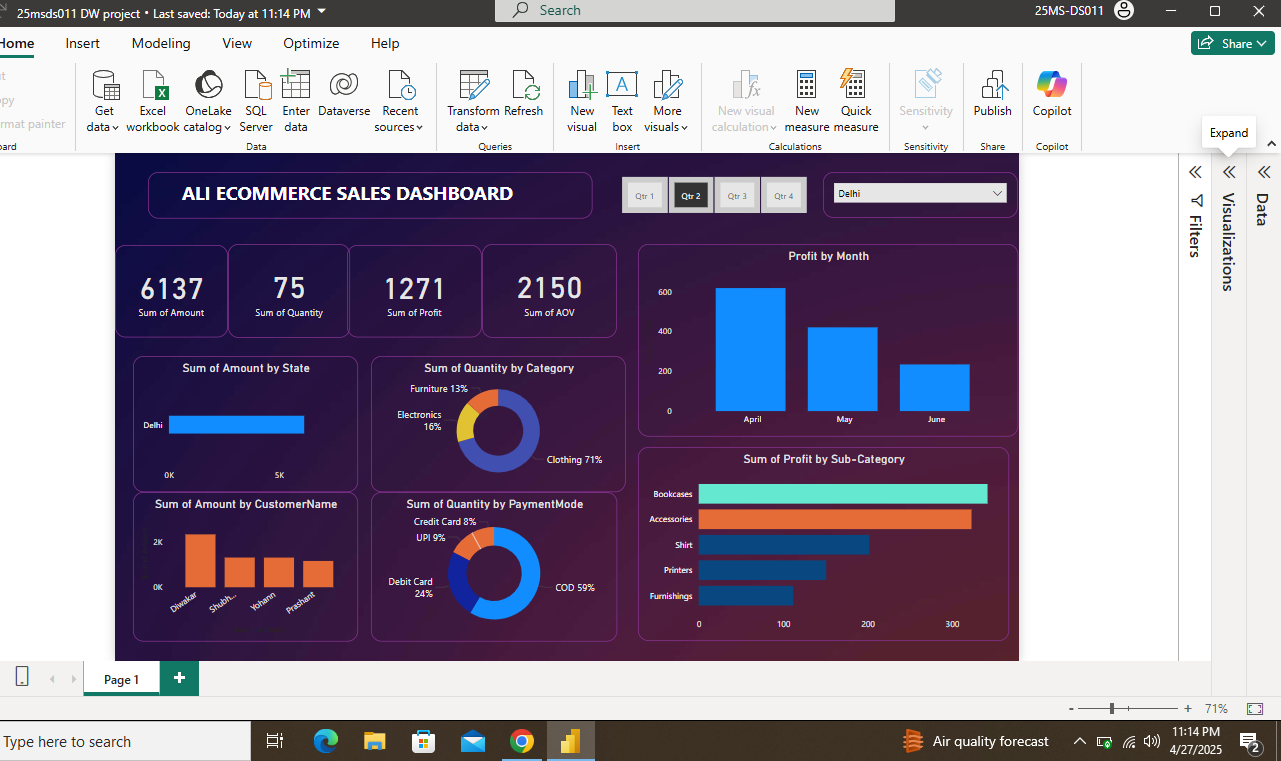

The dashboard page shown, as its layout file describes it:
{"tool":"powerbi","page":{"name":"Page 1","canvas":[1280,720],"ordinal":0},"visuals":[{"type":"textbox","box":[47,26.9,629.9,65.5],"z":0},{"type":"columnChart","title":"Profit by Month","fields":{"Y":["Sum(Details.Profit)"],"Category":["Order ID.Order Date.Variation.Date Hierarchy.Month"]},"box":[741.2,128.7,538.8,272.8],"z":1000},{"type":"barChart","fields":{"Category":["Details.Sub-Category"],"Y":["Sum(Details.Profit)"]},"box":[740.8,416.6,525.8,275.5],"z":2000},{"type":"donutChart","fields":{"Y":["Sum(Details.Quantity)"],"Category":["Details.Category"]},"box":[362.8,287.2,361.2,193.2],"z":3000},{"type":"donutChart","fields":{"Y":["Sum(Details.Quantity)"],"Category":["Details.PaymentMode"]},"box":[362.8,480.4,349.4,211.7],"z":4000},{"type":"card","fields":{"Values":["Sum(Details.Amount)"]},"box":[0,131,159.6,131],"z":5000},{"type":"card","fields":{"Values":["Sum(Details.Quantity)"]},"box":[159.6,129.3,173,132.7],"z":6000},{"type":"card","fields":{"Values":["Sum(Details.Profit)"]},"box":[329.2,131,191.5,131],"z":7000},{"type":"card","fields":{"Values":["Sum(Details.AOV)"]},"box":[520.7,129.3,191.5,132.7],"z":8000},{"type":"barChart","fields":{"Y":["Sum(Details.Amount)"],"Category":["Order ID.State"]},"box":[25.2,287.2,319.2,193.2],"z":9000},{"type":"columnChart","fields":{"Category":["Order ID.CustomerName"],"Y":["Sum(Details.Amount)"]},"box":[25,480,319,212],"z":10000},{"type":"slicer","fields":{"Values":["Order ID.Order Date.Variation.Date Hierarchy.Quarter"]},"box":[693.2,27.5,310.6,65.2],"z":11000},{"type":"slicer","fields":{"Values":["Order ID.State"]},"box":[1003.8,27.5,276.2,65.2],"z":12000}]}

Visuals, with their boxes on the page's 1280x720 design canvas (x1, y1, x2, y2). These are canvas units, not pixel positions in the 1281x761 screenshot, which may show the page scaled, cropped or inside an application window:
textbox: detection(47, 27, 677, 92)
"Profit by Month" columnChart: detection(741, 129, 1280, 402)
barChart - Details.Sub-Category x Sum(Details.Profit): detection(741, 417, 1267, 692)
donutChart - Sum(Details.Quantity) x Details.Category: detection(363, 287, 724, 480)
donutChart - Sum(Details.Quantity) x Details.PaymentMode: detection(363, 480, 712, 692)
card - Sum(Details.Amount): detection(0, 131, 160, 262)
card - Sum(Details.Quantity): detection(160, 129, 333, 262)
card - Sum(Details.Profit): detection(329, 131, 521, 262)
card - Sum(Details.AOV): detection(521, 129, 712, 262)
barChart - Sum(Details.Amount) x Order ID.State: detection(25, 287, 344, 480)
columnChart - Order ID.CustomerName x Sum(Details.Amount): detection(25, 480, 344, 692)
slicer - Order ID.Order Date.Variation.Date Hierarchy.Quarter: detection(693, 28, 1004, 93)
slicer - Order ID.State: detection(1004, 28, 1280, 93)
